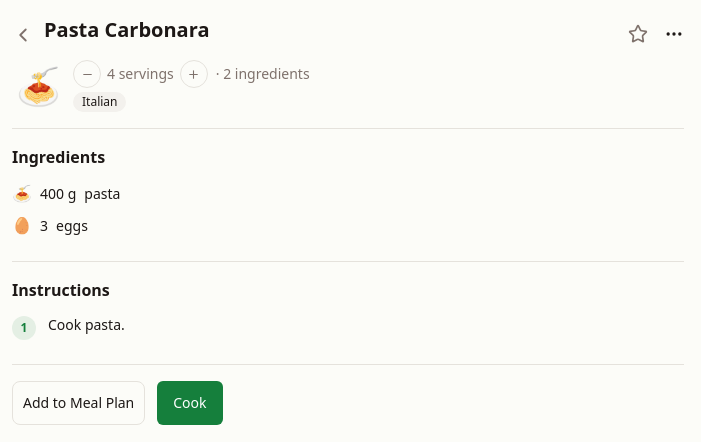
Scenario: RecipeDetailPage — servings scaler › scales quantities down when servings are decreased
Expected: the heading "Pasta Carbonara" is shown, [44, 16, 210, 43]
// click Decrease servings: 4 → 2
Click the button named "Decrease servings" at [87, 74], box [73, 60, 101, 88]
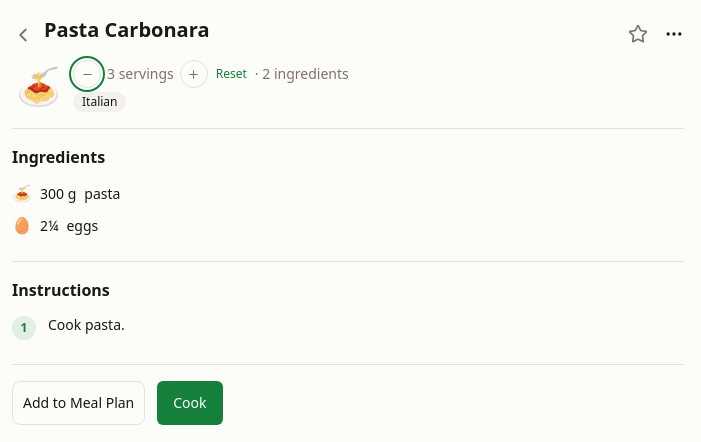
Click the button named "Decrease servings" at [87, 74], box [73, 60, 101, 88]
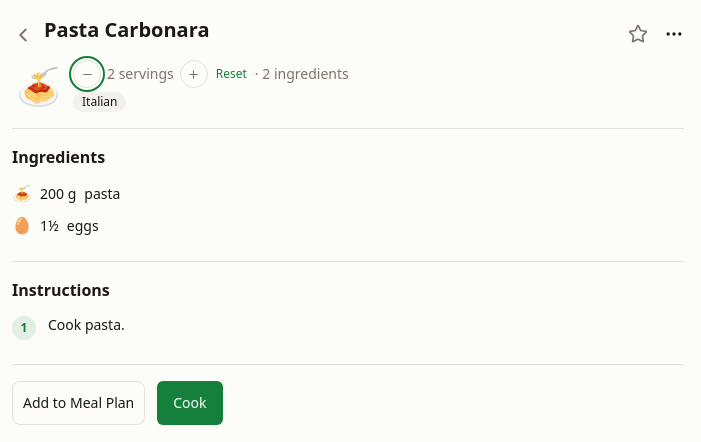
Expected: the text "200 g" is shown, [40, 184, 76, 204]
Expected: the text "2 servings" is shown, [105, 64, 176, 84]
